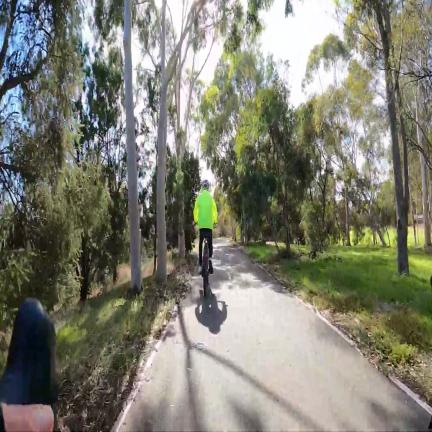Bike_Lane: (114, 239, 432, 432)
